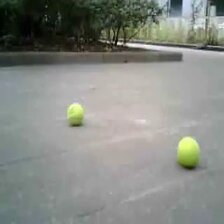tennis: (176, 138, 199, 164), (67, 103, 84, 123)
